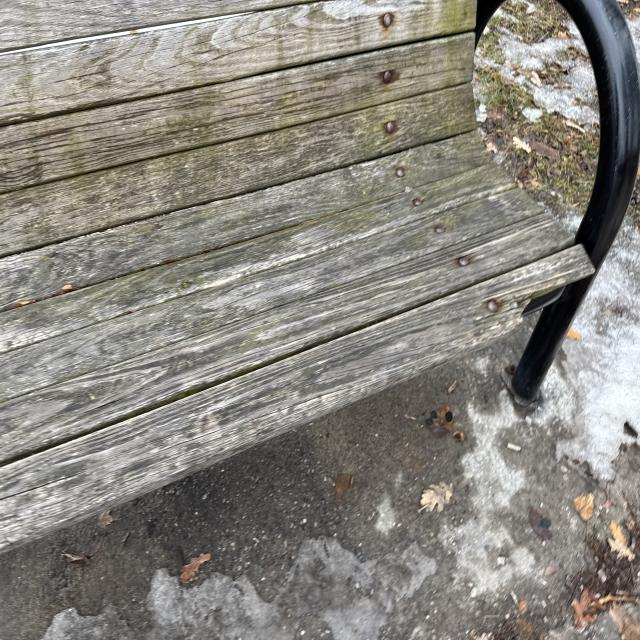Bench: (7, 6, 637, 412)
